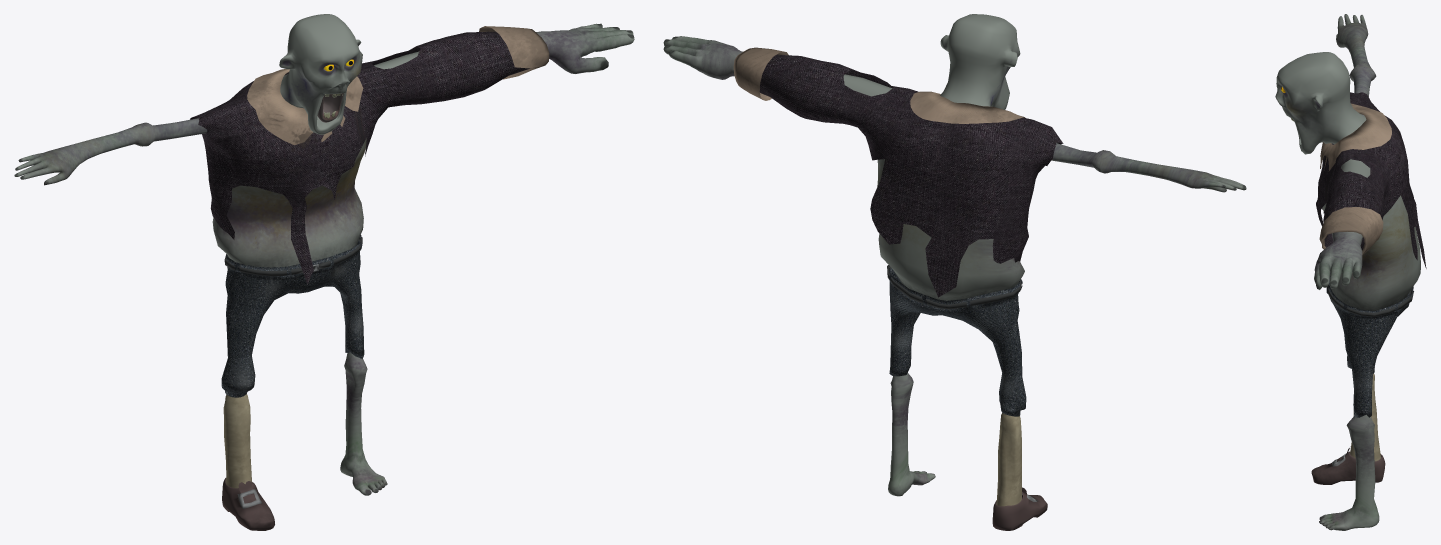
3 renders of one model, left to right at view 1: azimuth 30°, elevation 25°; view 2: azimuth 150°, elevation 25°; view 3: azimuth 270°, elevation 25°, orthographic. The views are drawn at different scales.
Visible parts, largest first — view 1: male1591.obj.000_cloth_0, male1591.obj.000_body_0; view 2: male1591.obj.000_cloth_0, male1591.obj.000_body_0; view 3: male1591.obj.000_body_0, male1591.obj.000_cloth_0.
Boxes of the visible parts, x1,y1,x2,y2 form: male1591.obj.000_cloth_0: (190, 26, 549, 530); male1591.obj.000_body_0: (14, 14, 634, 495); male1591.obj.000_cloth_0: (733, 47, 1063, 530); male1591.obj.000_body_0: (663, 14, 1246, 496); male1591.obj.000_body_0: (1275, 14, 1420, 530); male1591.obj.000_cloth_0: (1311, 92, 1426, 484).
Bounding box in the file's own units: 311 × 241 × 73.45.
Materials: 4 (4 with a texture image).
